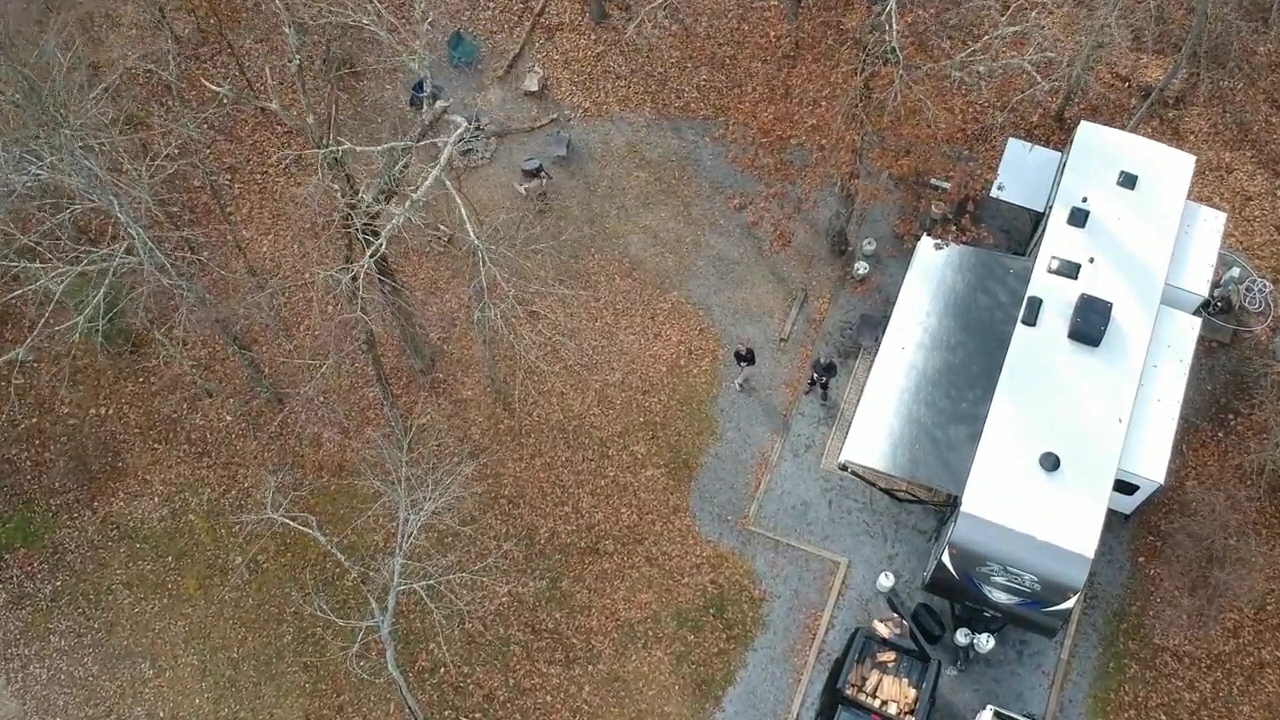insan: (795, 350, 843, 411), (727, 336, 763, 396)
